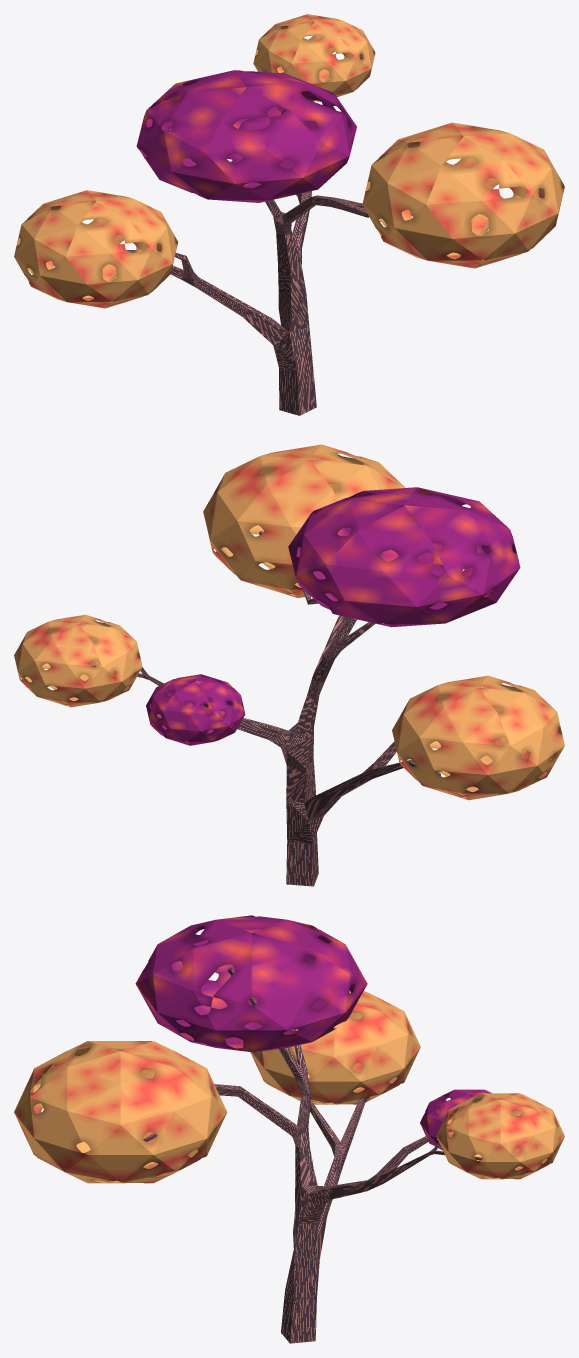
File: Tree_5.obj
3 views of the same model, one above another, from view 1: azimuth 30°, elevation 25°; view 2: azimuth 150°, elevation 25°; view 3: azimuth 270°, elevation 25° (orthographic). The views are drawn at different scales.
Visible parts, largest first — view 1: Willow_Cube.011; view 2: Willow_Cube.011; view 3: Willow_Cube.011.
Part boxes in pixels (left/top/right/bottom): Willow_Cube.011: left=14, top=14, right=564, bottom=415; Willow_Cube.011: left=14, top=444, right=564, bottom=886; Willow_Cube.011: left=14, top=915, right=564, bottom=1343.
Size of the model in its own units: 13.16 by 10.69 by 14.52.
